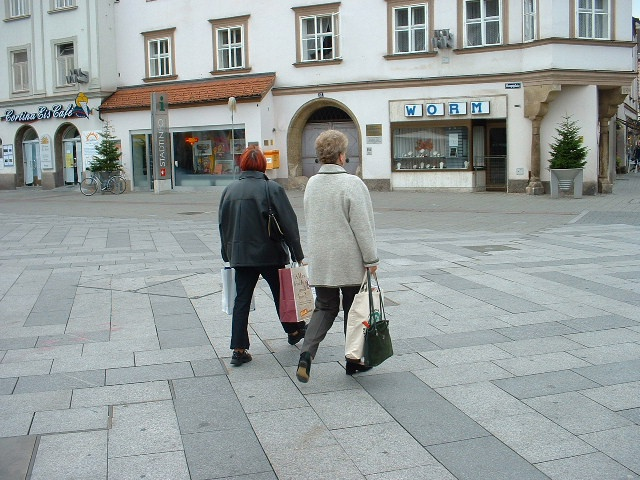person: (283, 127, 390, 384), (211, 144, 308, 370)
